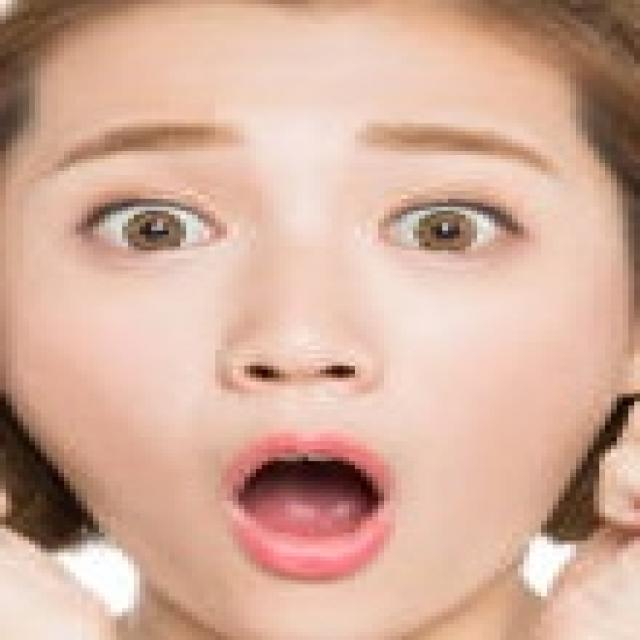Anxiety: (0, 8, 634, 636)
